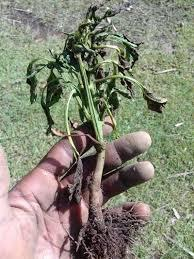root_rot: (28, 31, 176, 259)
